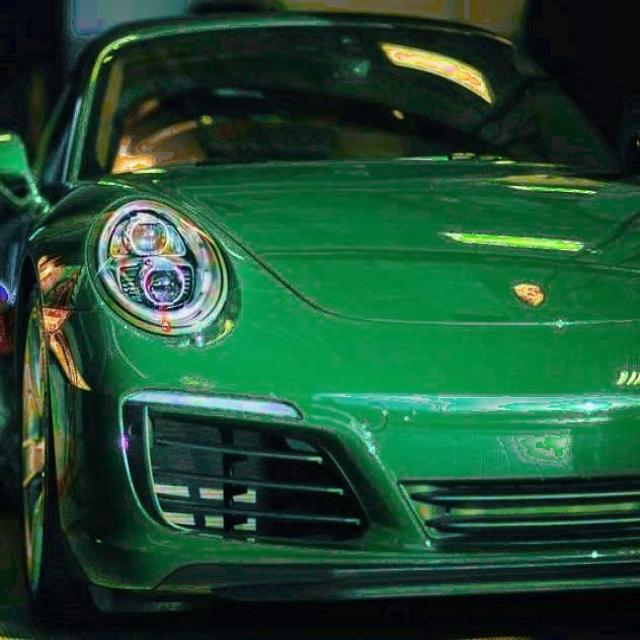green: (5, 6, 640, 608)
